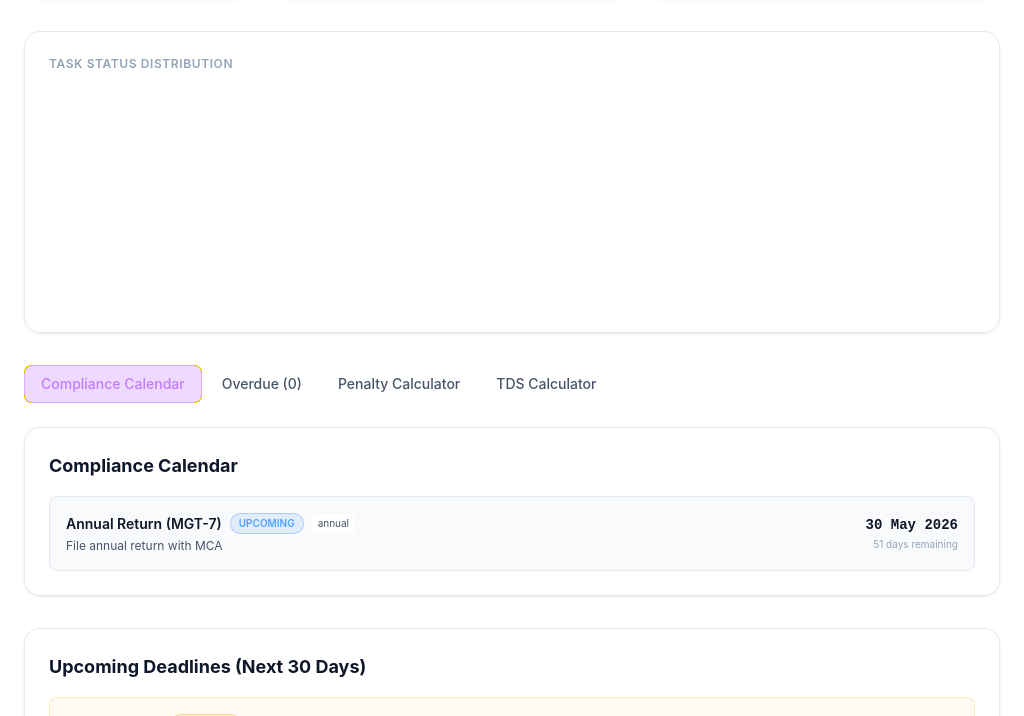
it: ComplianceDashboard › renders the overdue tab showing no overdue tasks
(page scrolled)
Click the button "Overdue (0)": (262, 384) [206,365,318,403]
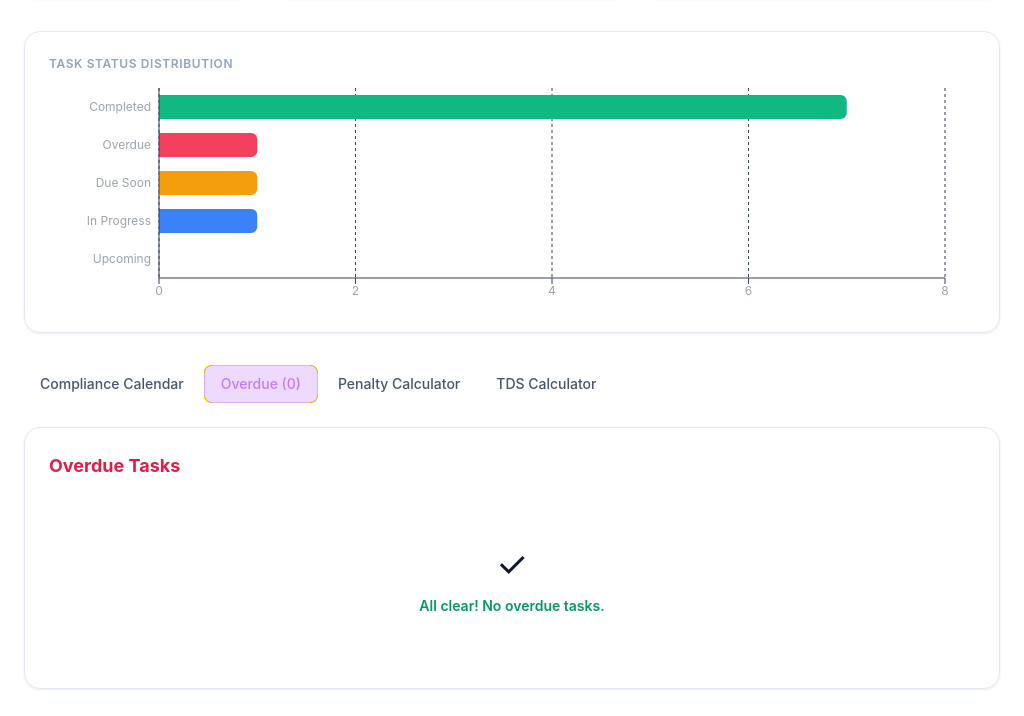
Result: the text "All clear! No overdue tasks." is shown at [419,597,605,614]
